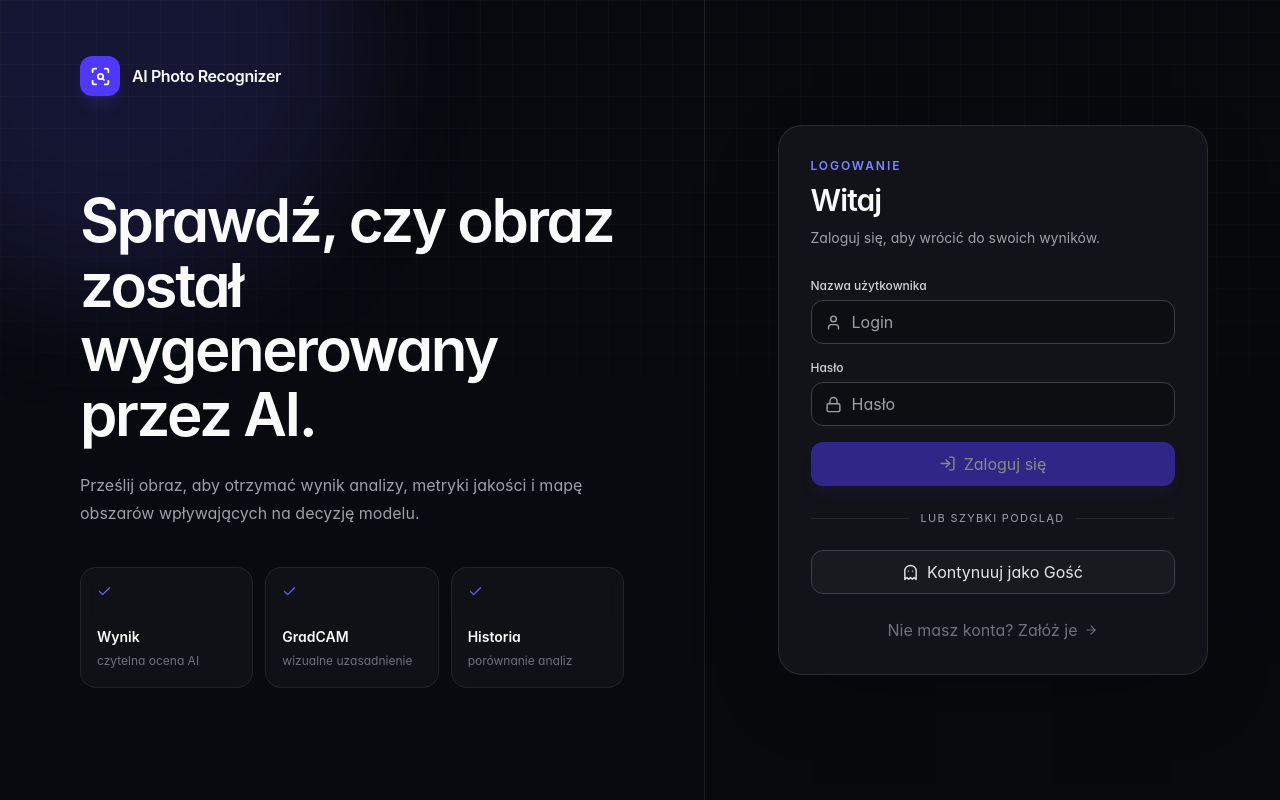
Test: AuthForm › login flow › should show error message on login failure
Type "wrong" into the field with placeholder "Login".
click(992, 322); type("wrong")  # box top-left (810, 300), bottom-right (1174, 344)
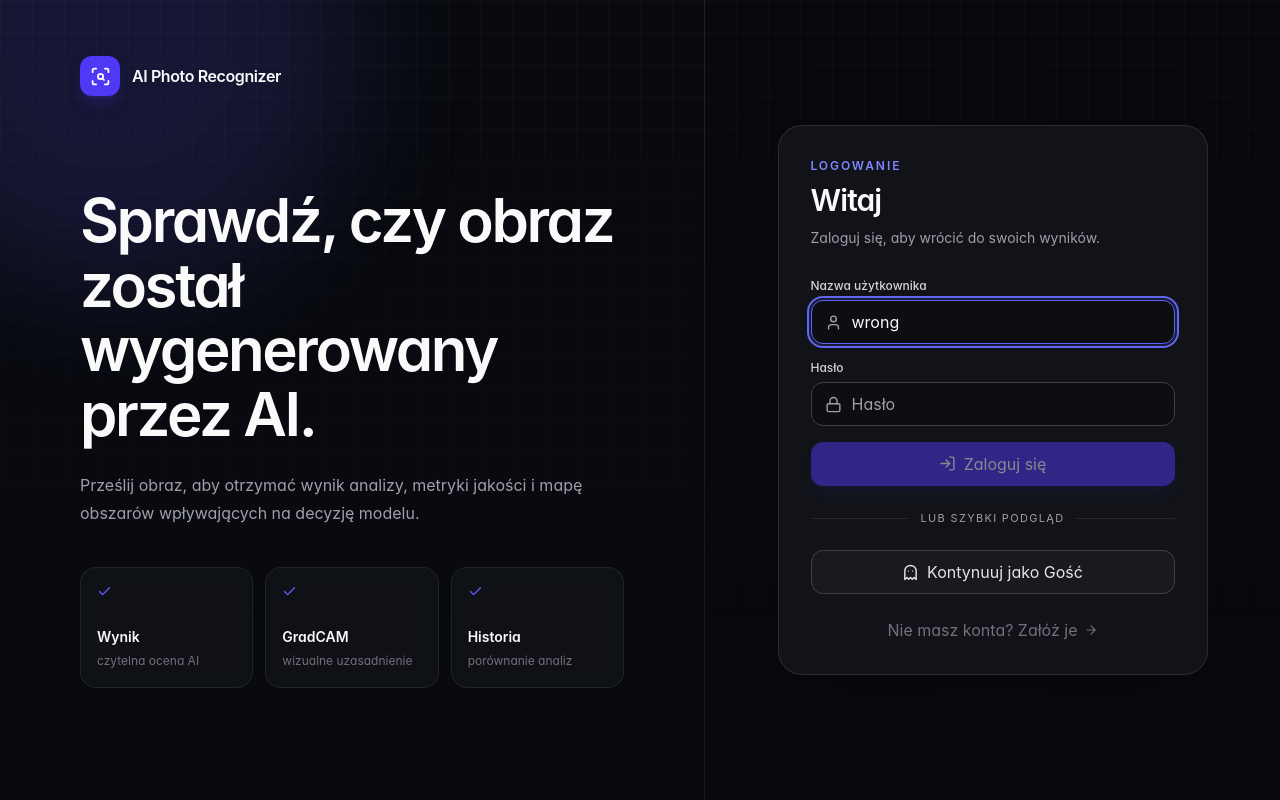
Type "wrong" into the password field with placeholder "Hasło".
click(992, 404); type("wrong")  # box top-left (810, 382), bottom-right (1174, 426)
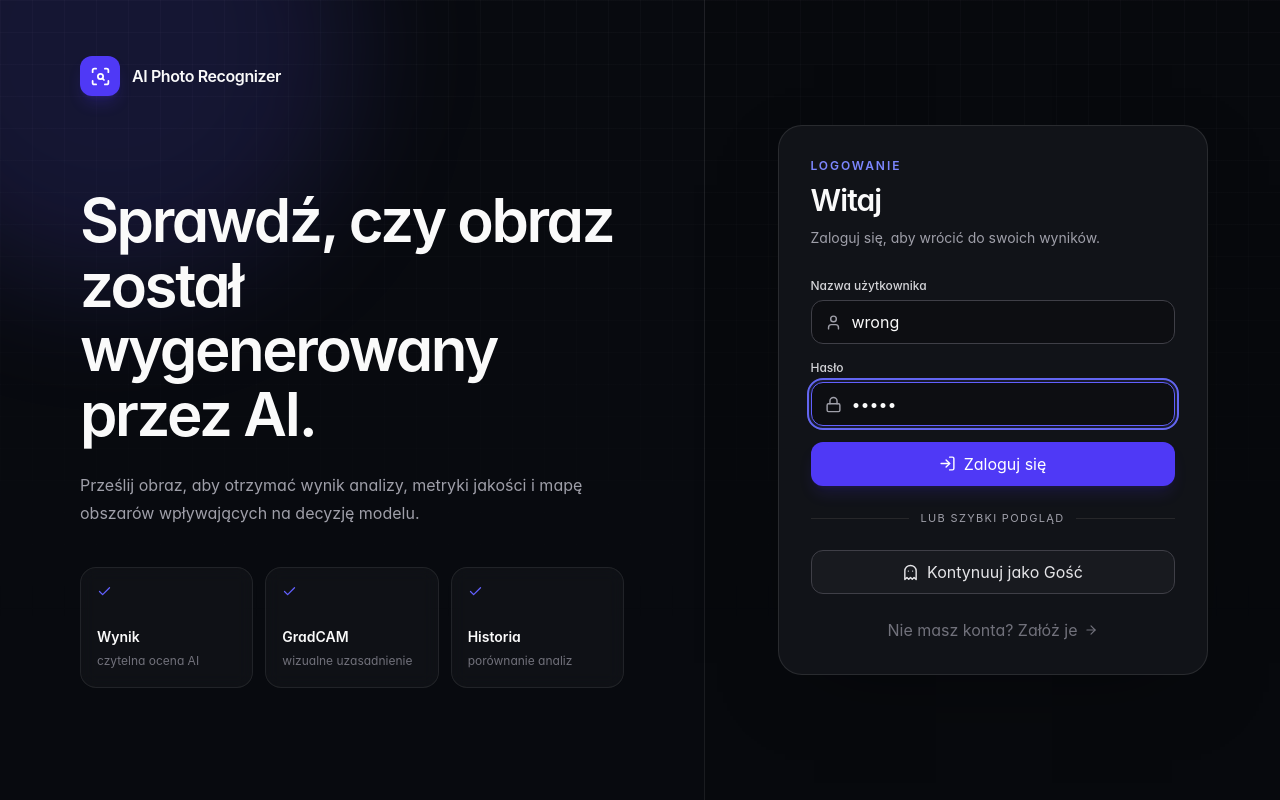
Click the button "Zaloguj się".
click(992, 464)  # box top-left (810, 442), bottom-right (1174, 486)
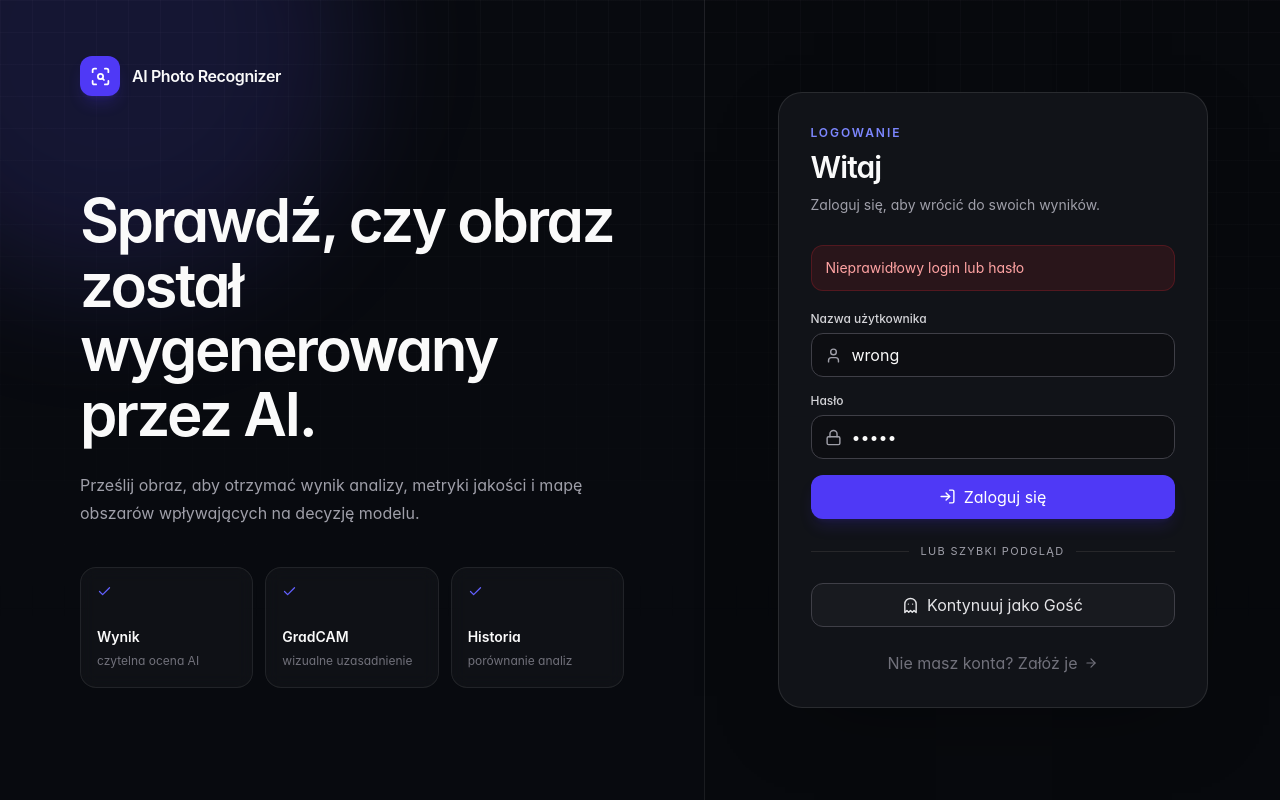
Check: the text "Nieprawidłowy login lub hasło" is shown, box top-left (810, 245), bottom-right (1174, 291)
